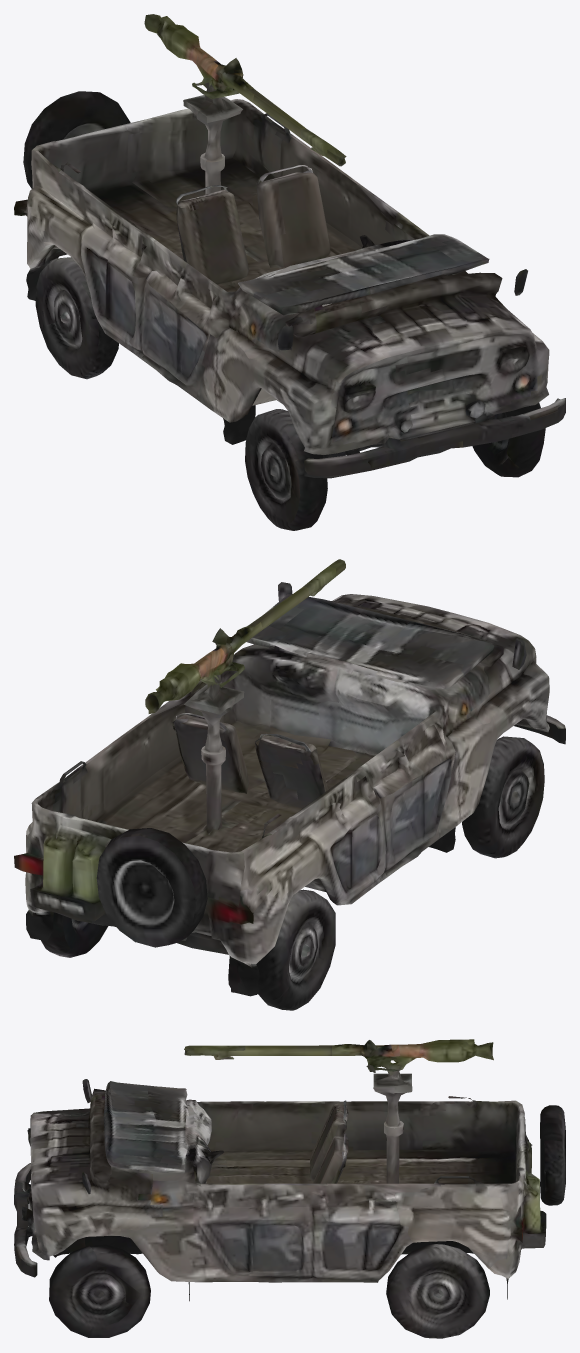
The model's file is armedute.glb.
3 renders of one model, top to bottom at view 1: azimuth 30°, elevation 25°; view 2: azimuth 150°, elevation 25°; view 3: azimuth 270°, elevation 25°, orthographic. The views are drawn at different scales.
Visible parts, largest first — view 1: BODY, W0, W1, TUR, W3; view 2: BODY, W0, W1, TUR, W2; view 3: BODY, W2, W3, TUR.
Part boxes in pixels (left/top/right/bottom): BODY: left=14, top=91, right=565, bottom=478; W0: left=245, top=409, right=327, bottom=530; W1: left=35, top=257, right=118, bottom=379; TUR: left=144, top=14, right=346, bottom=166; W3: left=472, top=402, right=545, bottom=477; BODY: left=14, top=582, right=565, bottom=996; W0: left=462, top=736, right=544, bottom=858; W1: left=256, top=889, right=335, bottom=1010; TUR: left=145, top=559, right=345, bottom=713; W2: left=41, top=912, right=108, bottom=957; BODY: left=14, top=1073, right=565, bottom=1301; W2: left=386, top=1244, right=489, bottom=1338; W3: left=49, top=1244, right=150, bottom=1337; TUR: left=184, top=1039, right=493, bottom=1082.
Size of the model in its own units: 1.82 by 2.11 by 4.1.
Materials: 1 (1 with a texture image).
